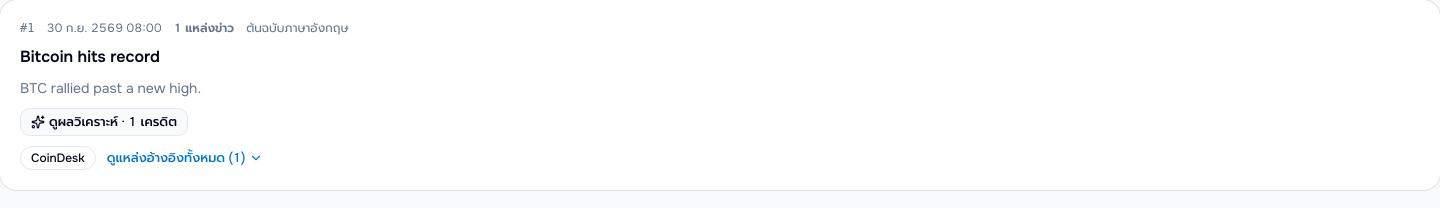
it: AI analysis on a news card › for customers › says in words when the wallet refuses the charge
The image size is (1440, 208).
Click the button "ดูผลวิเคราะห์ · 1 เครดิต" at [104, 122], box [20,108,188,136]
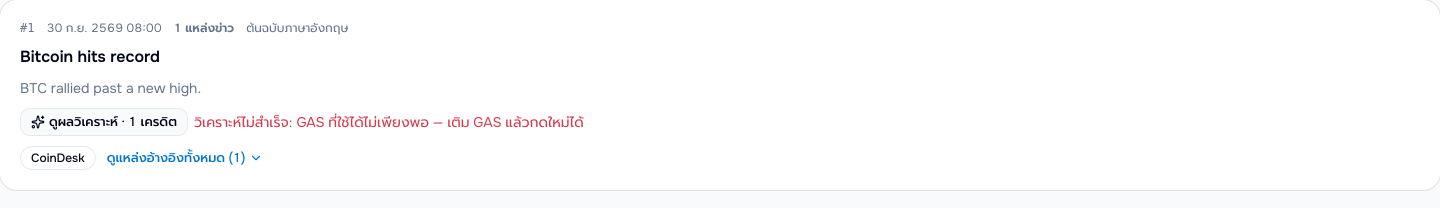
Check: the text "วิเคราะห์ไม่สำเร็จ: GAS ที่ใช้ได้ไม่เพียงพอ — เติม GAS แล้วกดใหม่ได้" is shown, box [194,112,584,132]
